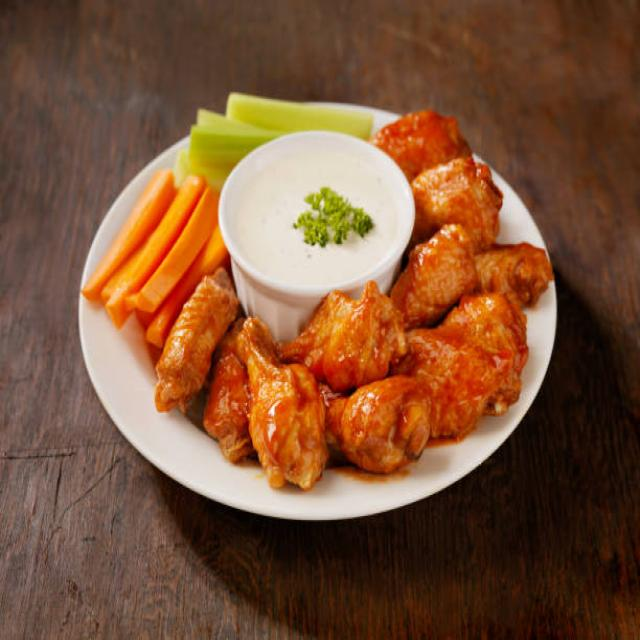Frango: (156, 108, 553, 496)
